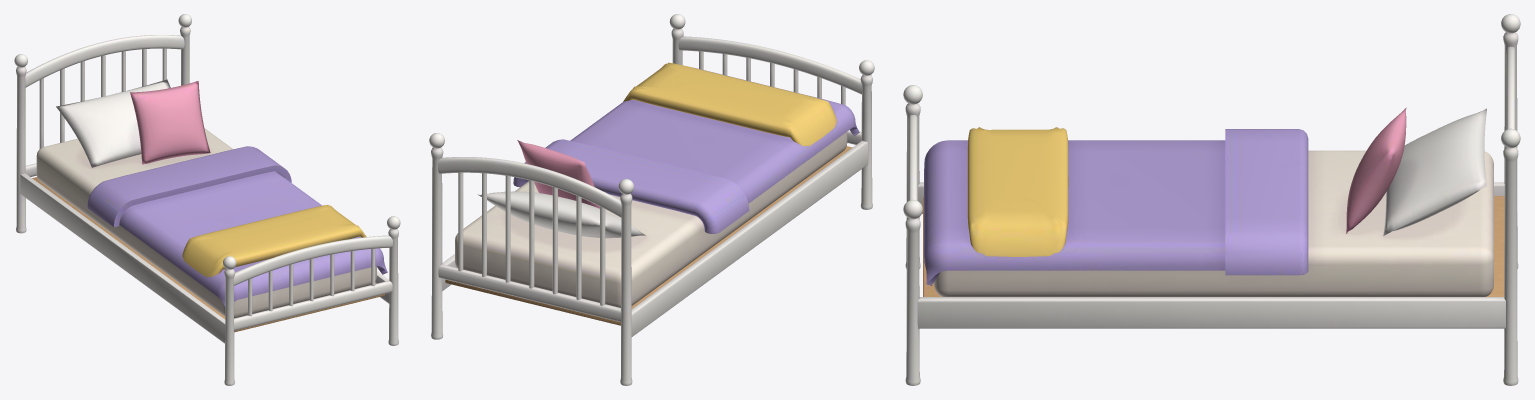
Rendered from single-bed-light.glb.
3 renders of one model, left to right at view 1: azimuth 30°, elevation 25°; view 2: azimuth 150°, elevation 25°; view 3: azimuth 270°, elevation 25°, orthographic. The views are drawn at different scales.
Parts seen in each view (by area): view 1: single-bed_body; view 2: single-bed_body; view 3: single-bed_body.
Part boxes in pixels (x1=…): single-bed_body: x1=14, y1=14, x2=400, y2=385; single-bed_body: x1=429, y1=14, x2=874, y2=385; single-bed_body: x1=903, y1=14, x2=1520, y2=385.
Size of the model in its own units: 1.05 by 1 by 2.2.
Materials: 1 (1 with a texture image).
